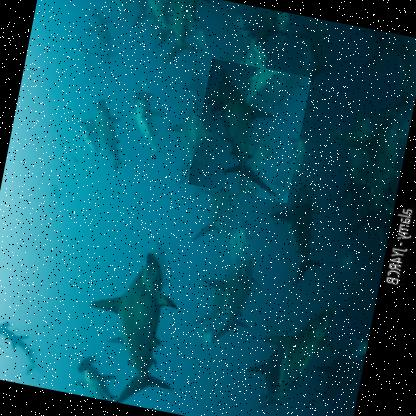hammerhead_Shark: (52, 222, 212, 406), (187, 57, 312, 203)
